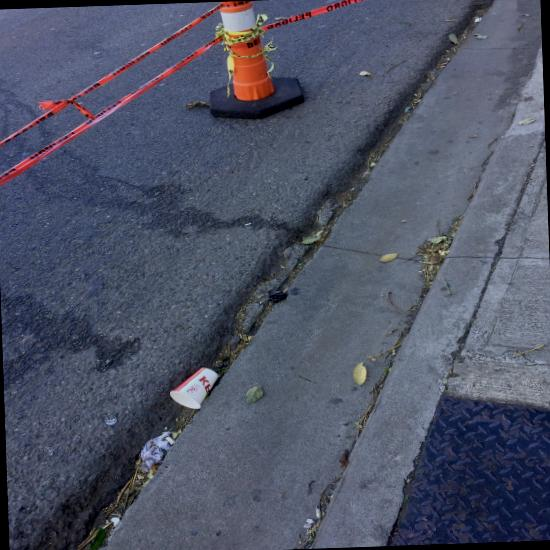Cigarette: (165, 436, 175, 445)
Metal bottle cap: (106, 418, 117, 425)
Normal paper: (140, 430, 172, 473)
Paper cup: (170, 367, 219, 409)
